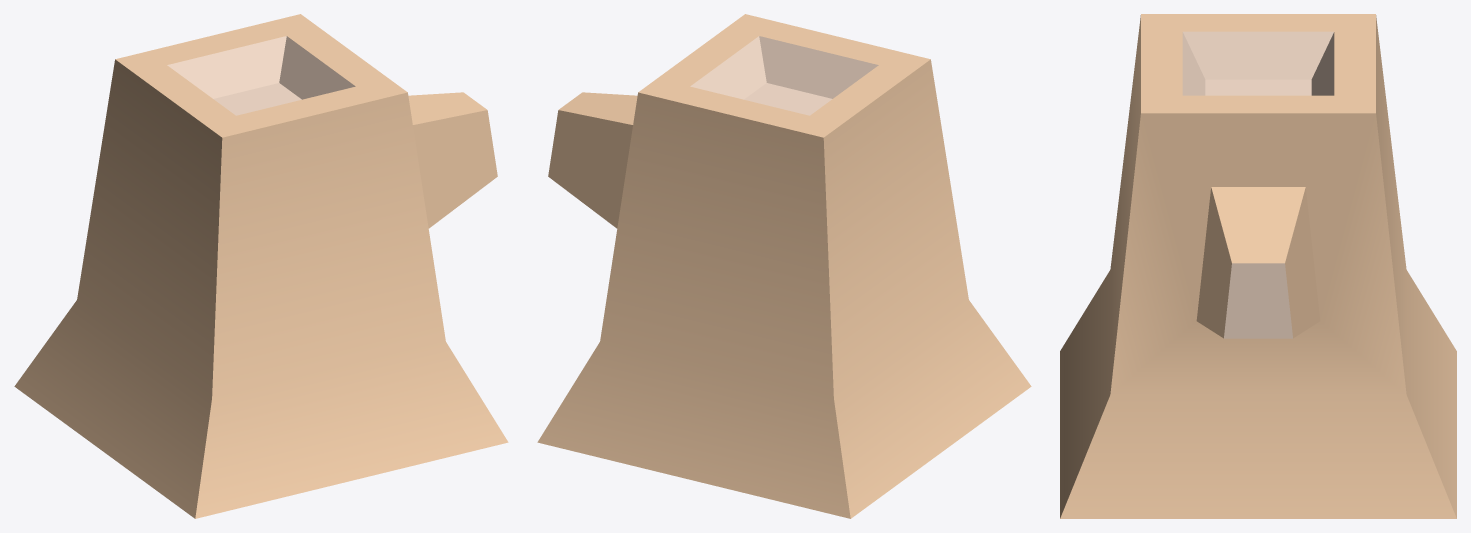
The model's file is treeStump_side.glb.
3 renders of one model, left to right at view 1: azimuth 30°, elevation 25°; view 2: azimuth 150°, elevation 25°; view 3: azimuth 270°, elevation 25°, orthographic. The views are drawn at different scales.
Visible parts, largest first — view 1: treeStump_side; view 2: treeStump_side; view 3: treeStump_side.
Boxes of the visible parts, box(x1,y1,x2,y2) form: treeStump_side: box(14, 14, 508, 518); treeStump_side: box(537, 14, 1031, 518); treeStump_side: box(1060, 14, 1456, 518).
Bounding box in the file's own units: 0.3386 × 0.2905 × 0.2813.
